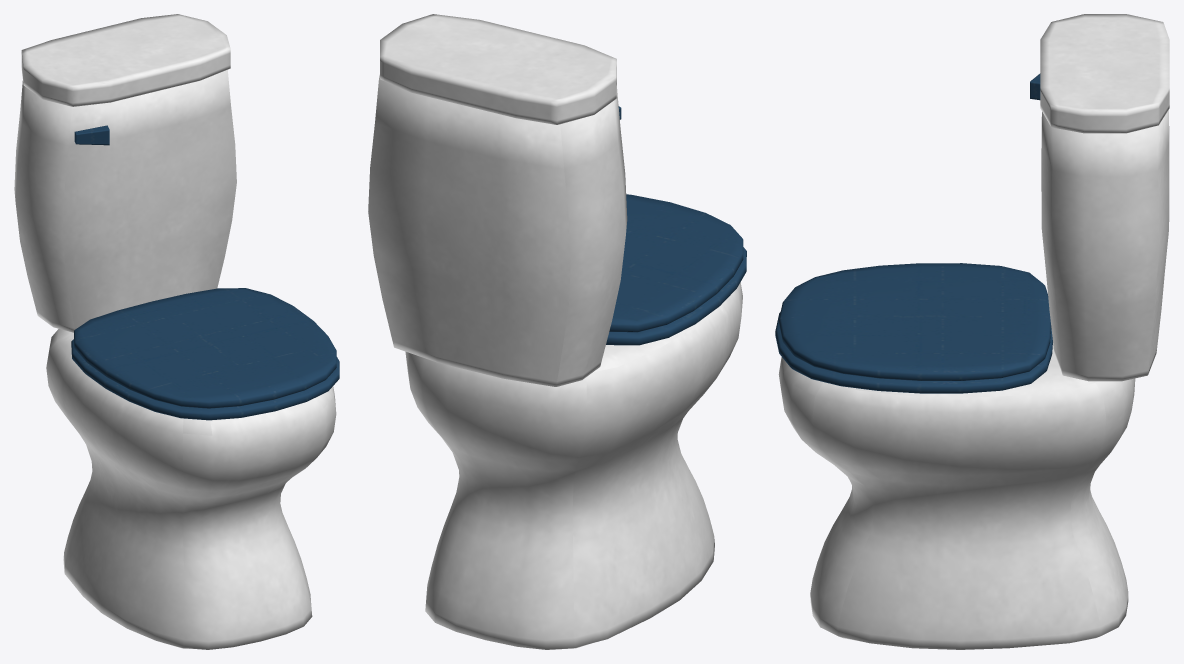
The model's file is toilet.fbx.
3 renders of one model, left to right at view 1: azimuth 30°, elevation 25°; view 2: azimuth 150°, elevation 25°; view 3: azimuth 270°, elevation 25°, orthographic. The views are drawn at different scales.
Parts seen in each view (by area): view 1: base, tank, lid.002, tank.head, lid.001, switch.thing; view 2: base, tank, tank.head, lid.002, lid.001; view 3: base, tank, lid.002, tank.head, lid.001.
Part boxes in pixels (left/top/right/bottom): base: left=46, top=329, right=336, bottom=649; tank: left=14, top=70, right=236, bottom=332; lid.002: left=74, top=288, right=336, bottom=408; tank.head: left=21, top=14, right=230, bottom=106; lid.001: left=71, top=339, right=339, bottom=420; switch.thing: left=74, top=125, right=109, bottom=145; base: left=405, top=282, right=742, bottom=649; tank: left=368, top=75, right=627, bottom=386; tank.head: left=380, top=14, right=616, bottom=124; lid.002: left=609, top=194, right=743, bottom=332; lid.001: left=606, top=247, right=746, bottom=345; base: left=778, top=343, right=1135, bottom=649; tank: left=1041, top=110, right=1169, bottom=381; lid.002: left=779, top=263, right=1051, bottom=380; tank.head: left=1040, top=14, right=1169, bottom=133; lid.001: left=775, top=312, right=1052, bottom=393.
Bounding box in the file's own units: 58.78 × 128 × 84.4.
Materials: 2 (2 with a texture image).
